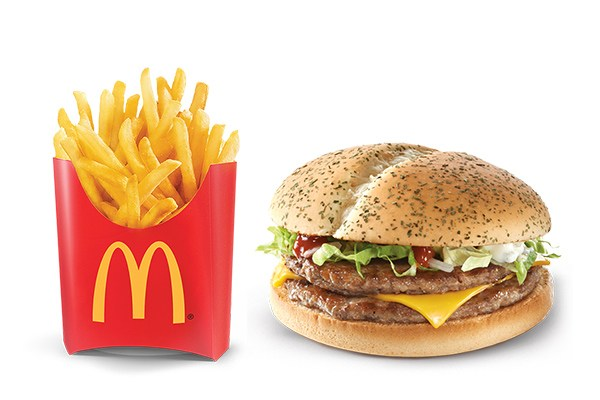mcdonalds: (88, 237, 187, 331)
